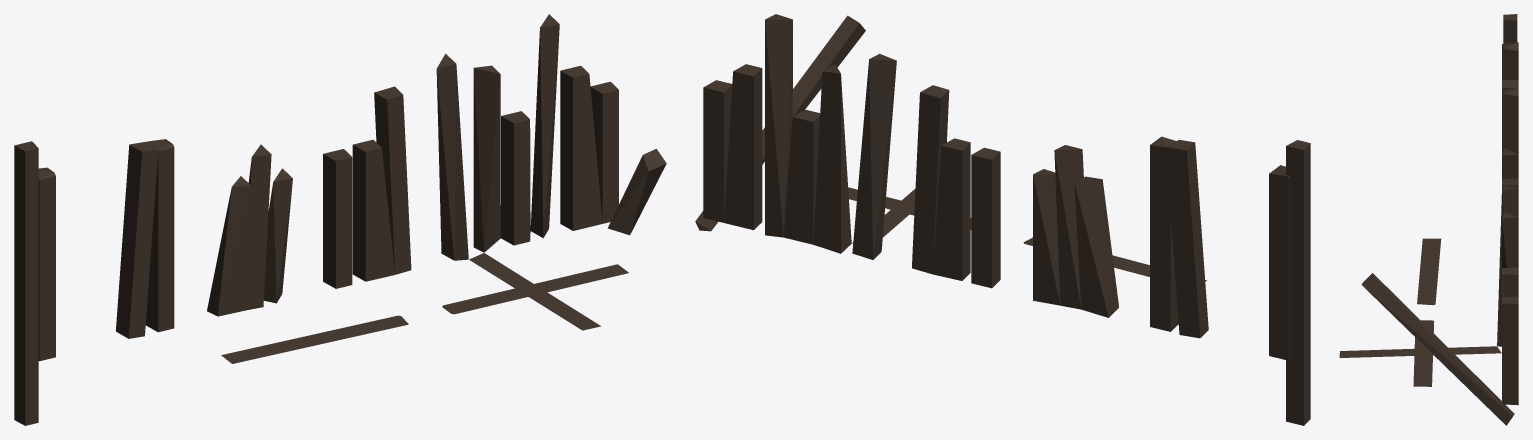
The model's file is fence-broken-lod1.glb.
The picture shows the model from 3 angles, left to right: view 1: azimuth 30°, elevation 25°; view 2: azimuth 150°, elevation 25°; view 3: azimuth 270°, elevation 25°; orthographic projection. The views are drawn at different scales.
Size of the model in its own units: 4.11 by 1.77 by 1.35.
